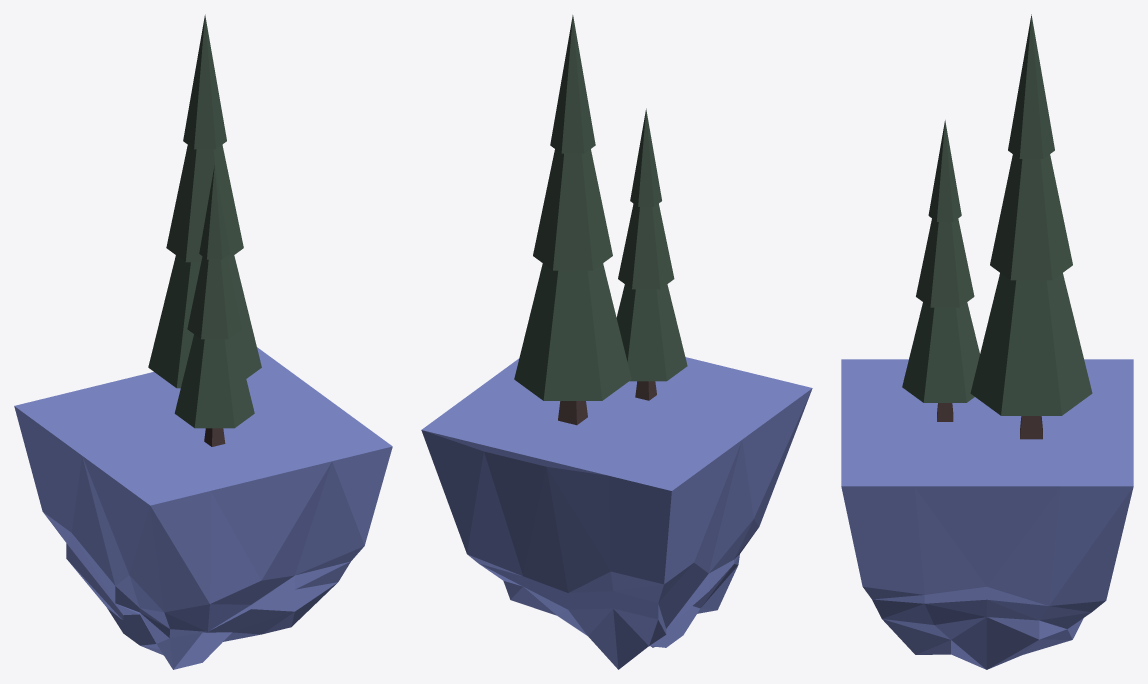
File: office-floating-icon.dae
3 views of the same model, side by side, from view 1: azimuth 30°, elevation 25°; view 2: azimuth 150°, elevation 25°; view 3: azimuth 270°, elevation 25° (orthographic). The views are drawn at different scales.
Visible parts, largest first — view 1: Cube_002, Cone_001, Cone_000, Cone_004, Cone_002, Cone_005, Cone_003; view 2: Cube_002, Cone_000, Cone_004, Cone_001, Cone_002, Cone_005, Cone_003, Cube_008; view 3: Cube_002, Cone_000, Cone_004, Cone_001, Cone_002, Cone_005, Cone_003, Cube_008.
Part boxes in pixels (<box>): Cube_002: <box>14,347,392,669</box>; Cone_001: <box>174,334,254,428</box>; Cone_000: <box>148,255,261,388</box>; Cone_004: <box>166,144,243,262</box>; Cone_002: <box>187,256,241,339</box>; Cone_005: <box>183,14,226,149</box>; Cone_003: <box>199,165,230,259</box>; Cube_002: <box>421,357,812,669</box>; Cone_000: <box>514,263,631,400</box>; Cone_004: <box>533,149,612,270</box>; Cone_001: <box>616,284,687,381</box>; Cone_002: <box>618,203,674,289</box>; Cone_005: <box>550,15,595,153</box>; Cone_003: <box>630,108,661,206</box>; Cube_008: <box>558,401,587,425</box>; Cube_002: <box>841,359,1133,669</box>; Cone_000: <box>970,273,1092,415</box>; Cone_004: <box>990,154,1072,280</box>; Cone_001: <box>902,302,979,402</box>; Cone_002: <box>916,218,974,307</box>; Cone_005: <box>1008,14,1054,158</box>; Cone_003: <box>928,120,961,221</box>; Cube_008: <box>1020,416,1042,439</box>.
Bounding box in the file's own units: 4.23 × 4.12 × 10.25.
